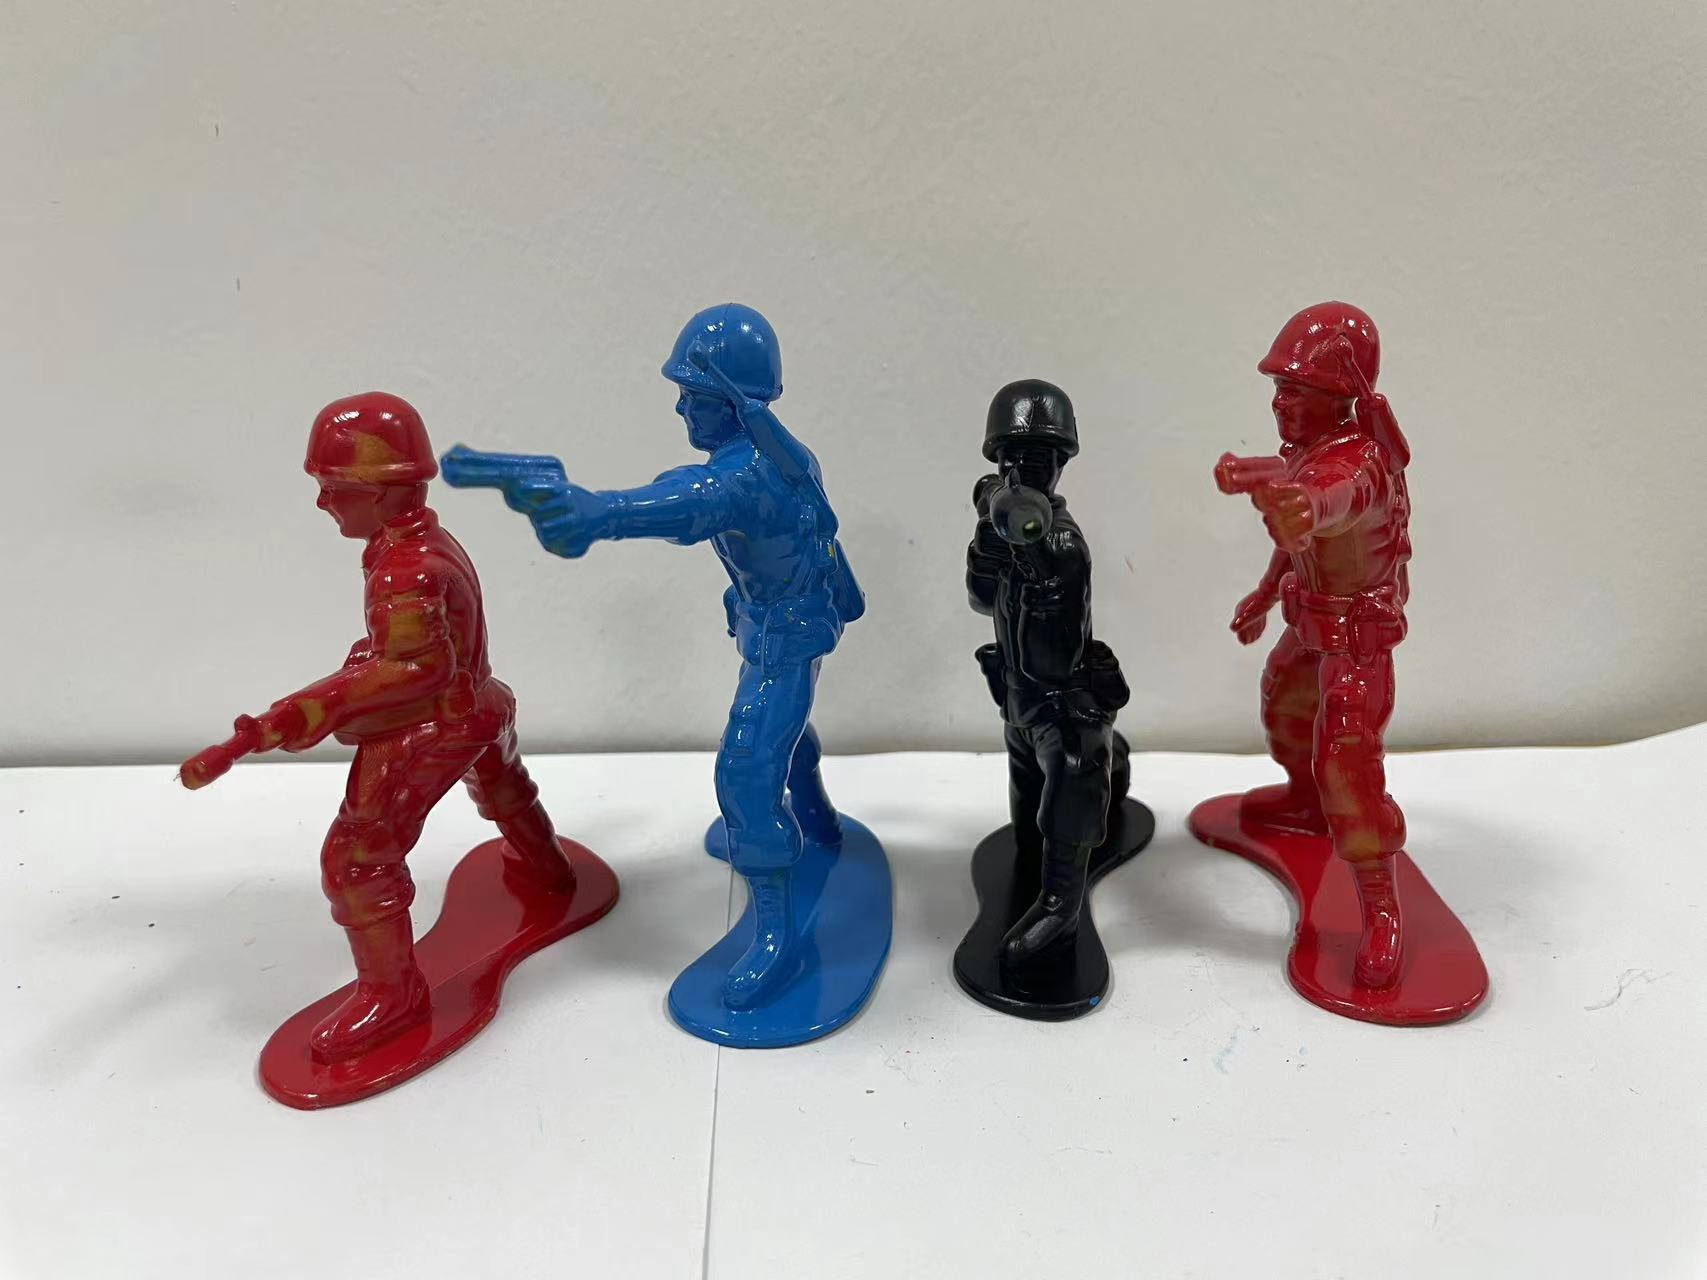black: (937, 379, 1179, 1059)
blue: (505, 274, 927, 1092)
red: (175, 385, 640, 1125), (1184, 290, 1559, 1054)
